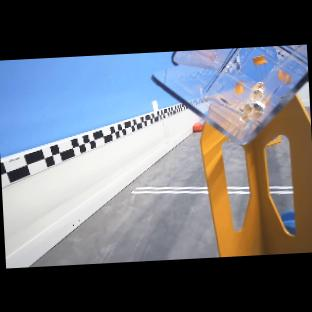Goal: (152, 44, 308, 144)
V5_RED: (192, 122, 203, 132)
